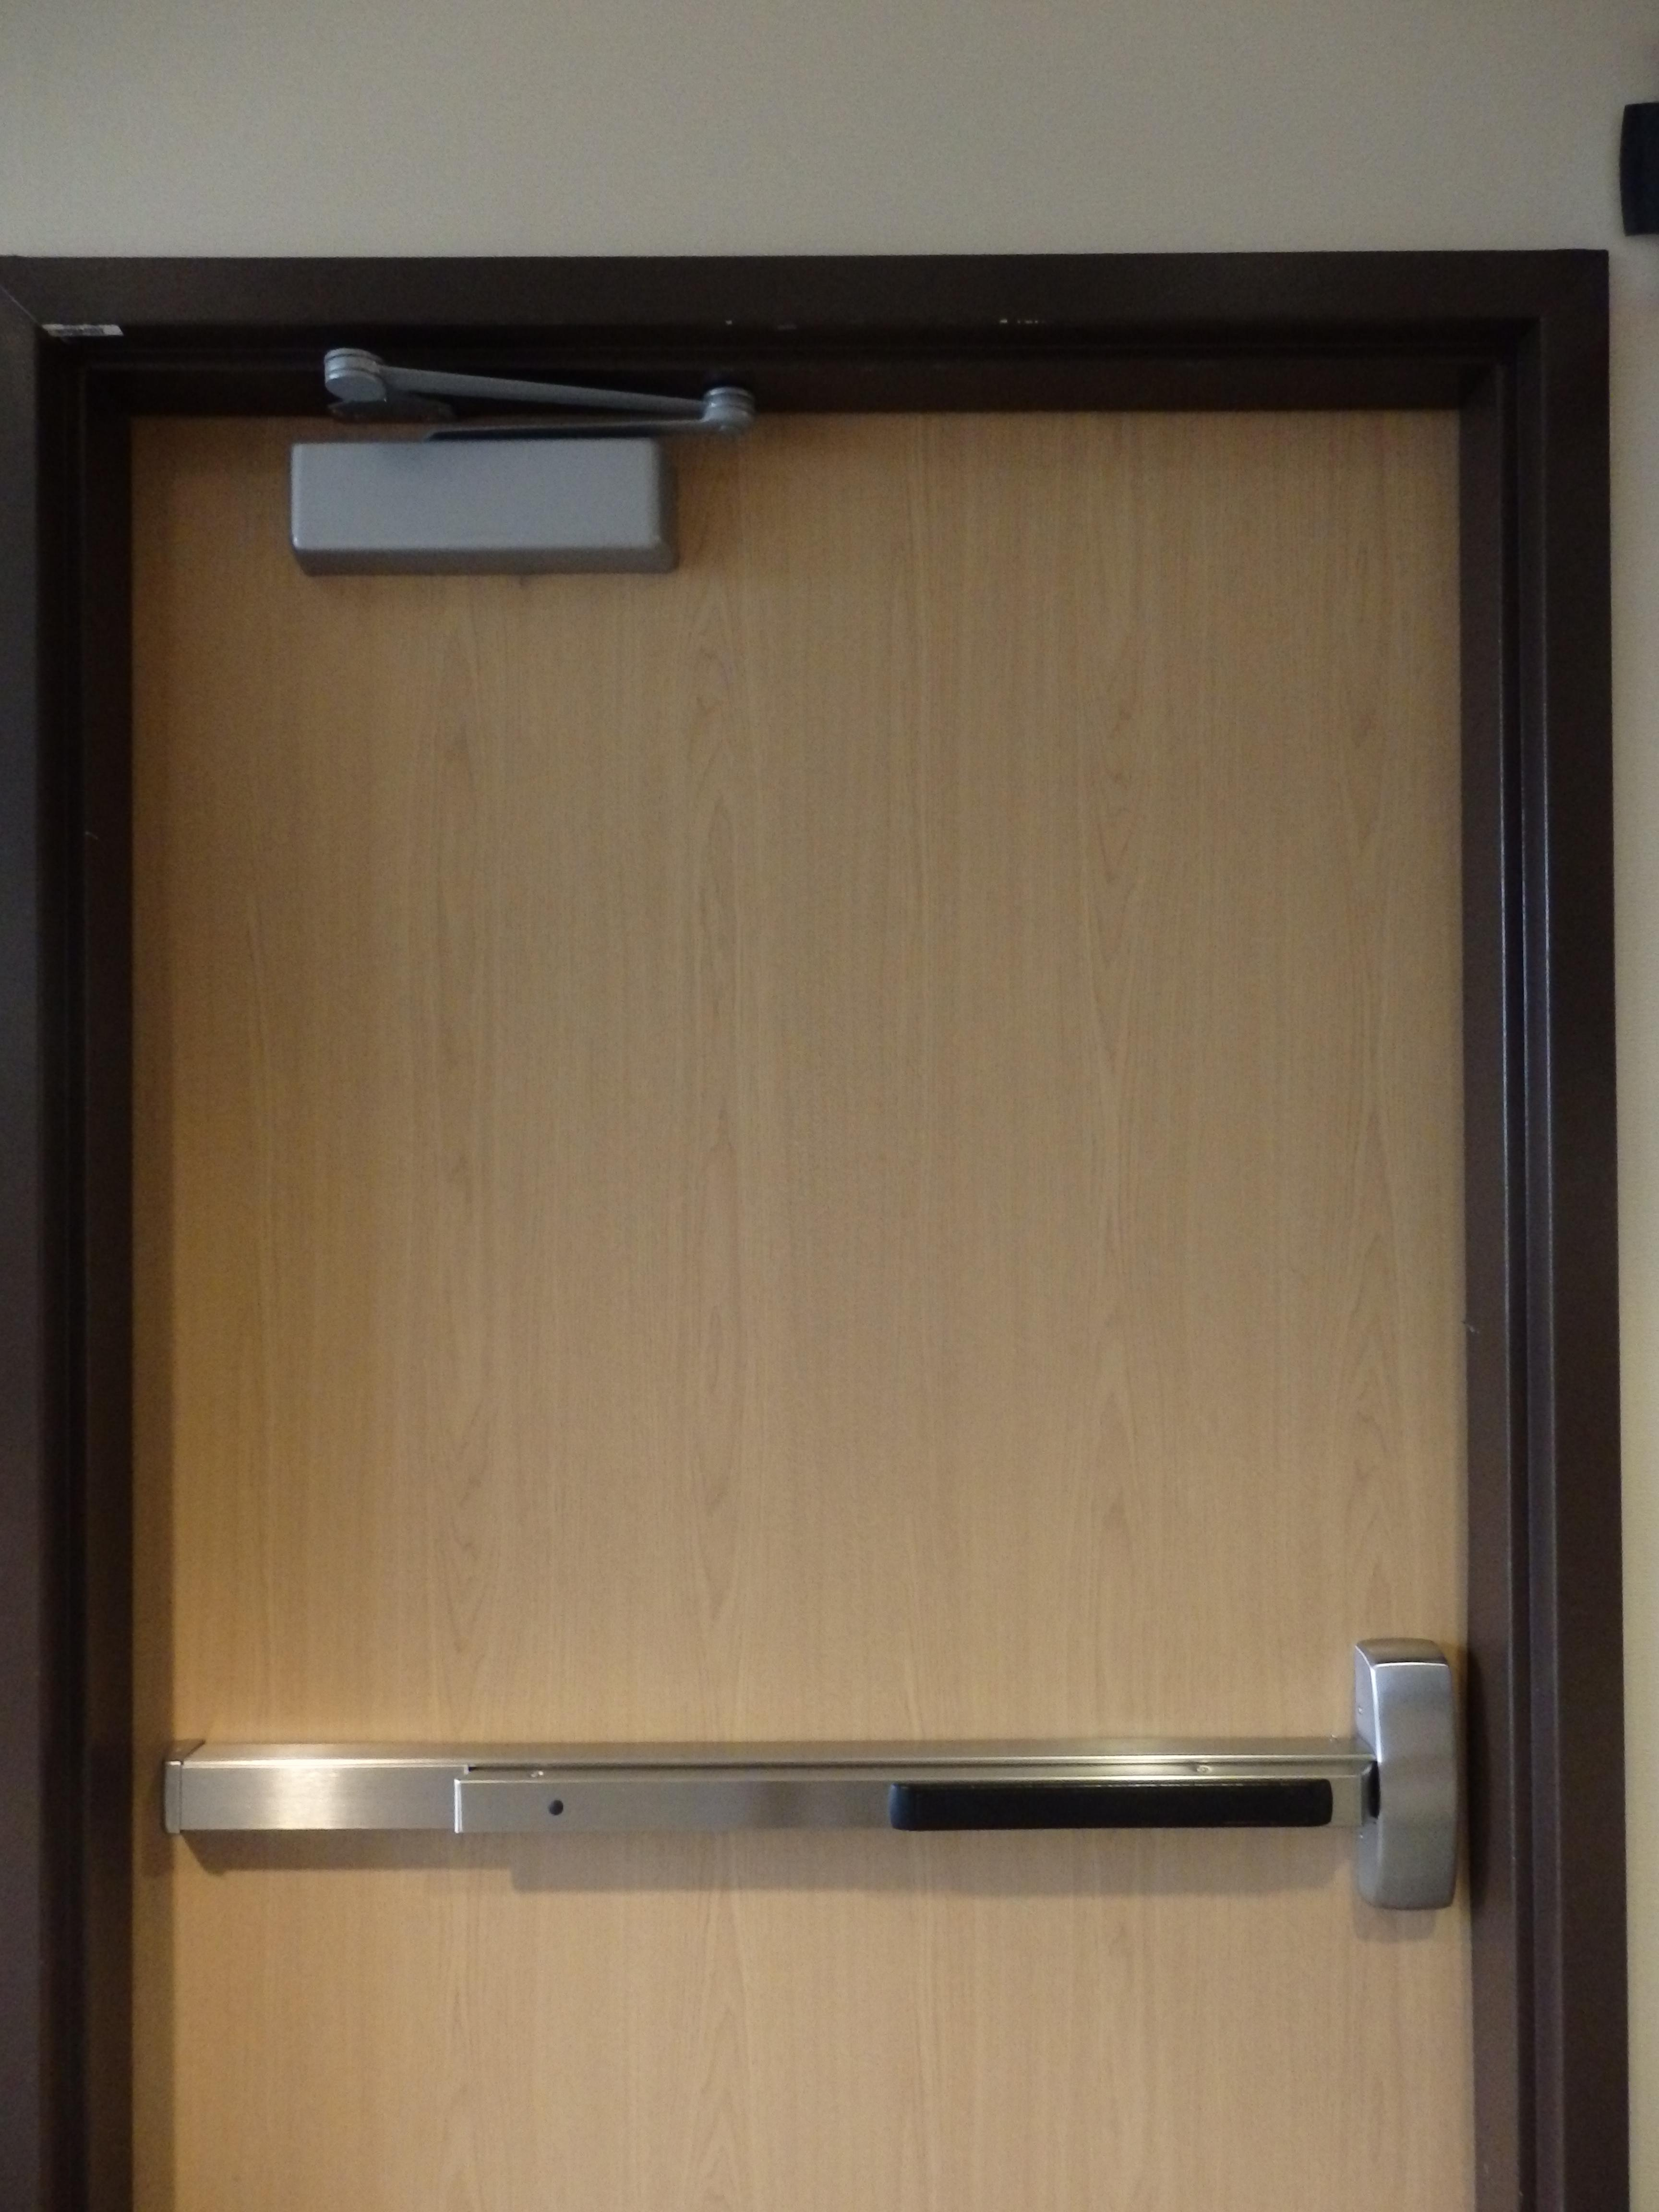door: (66, 362, 1560, 2212)
